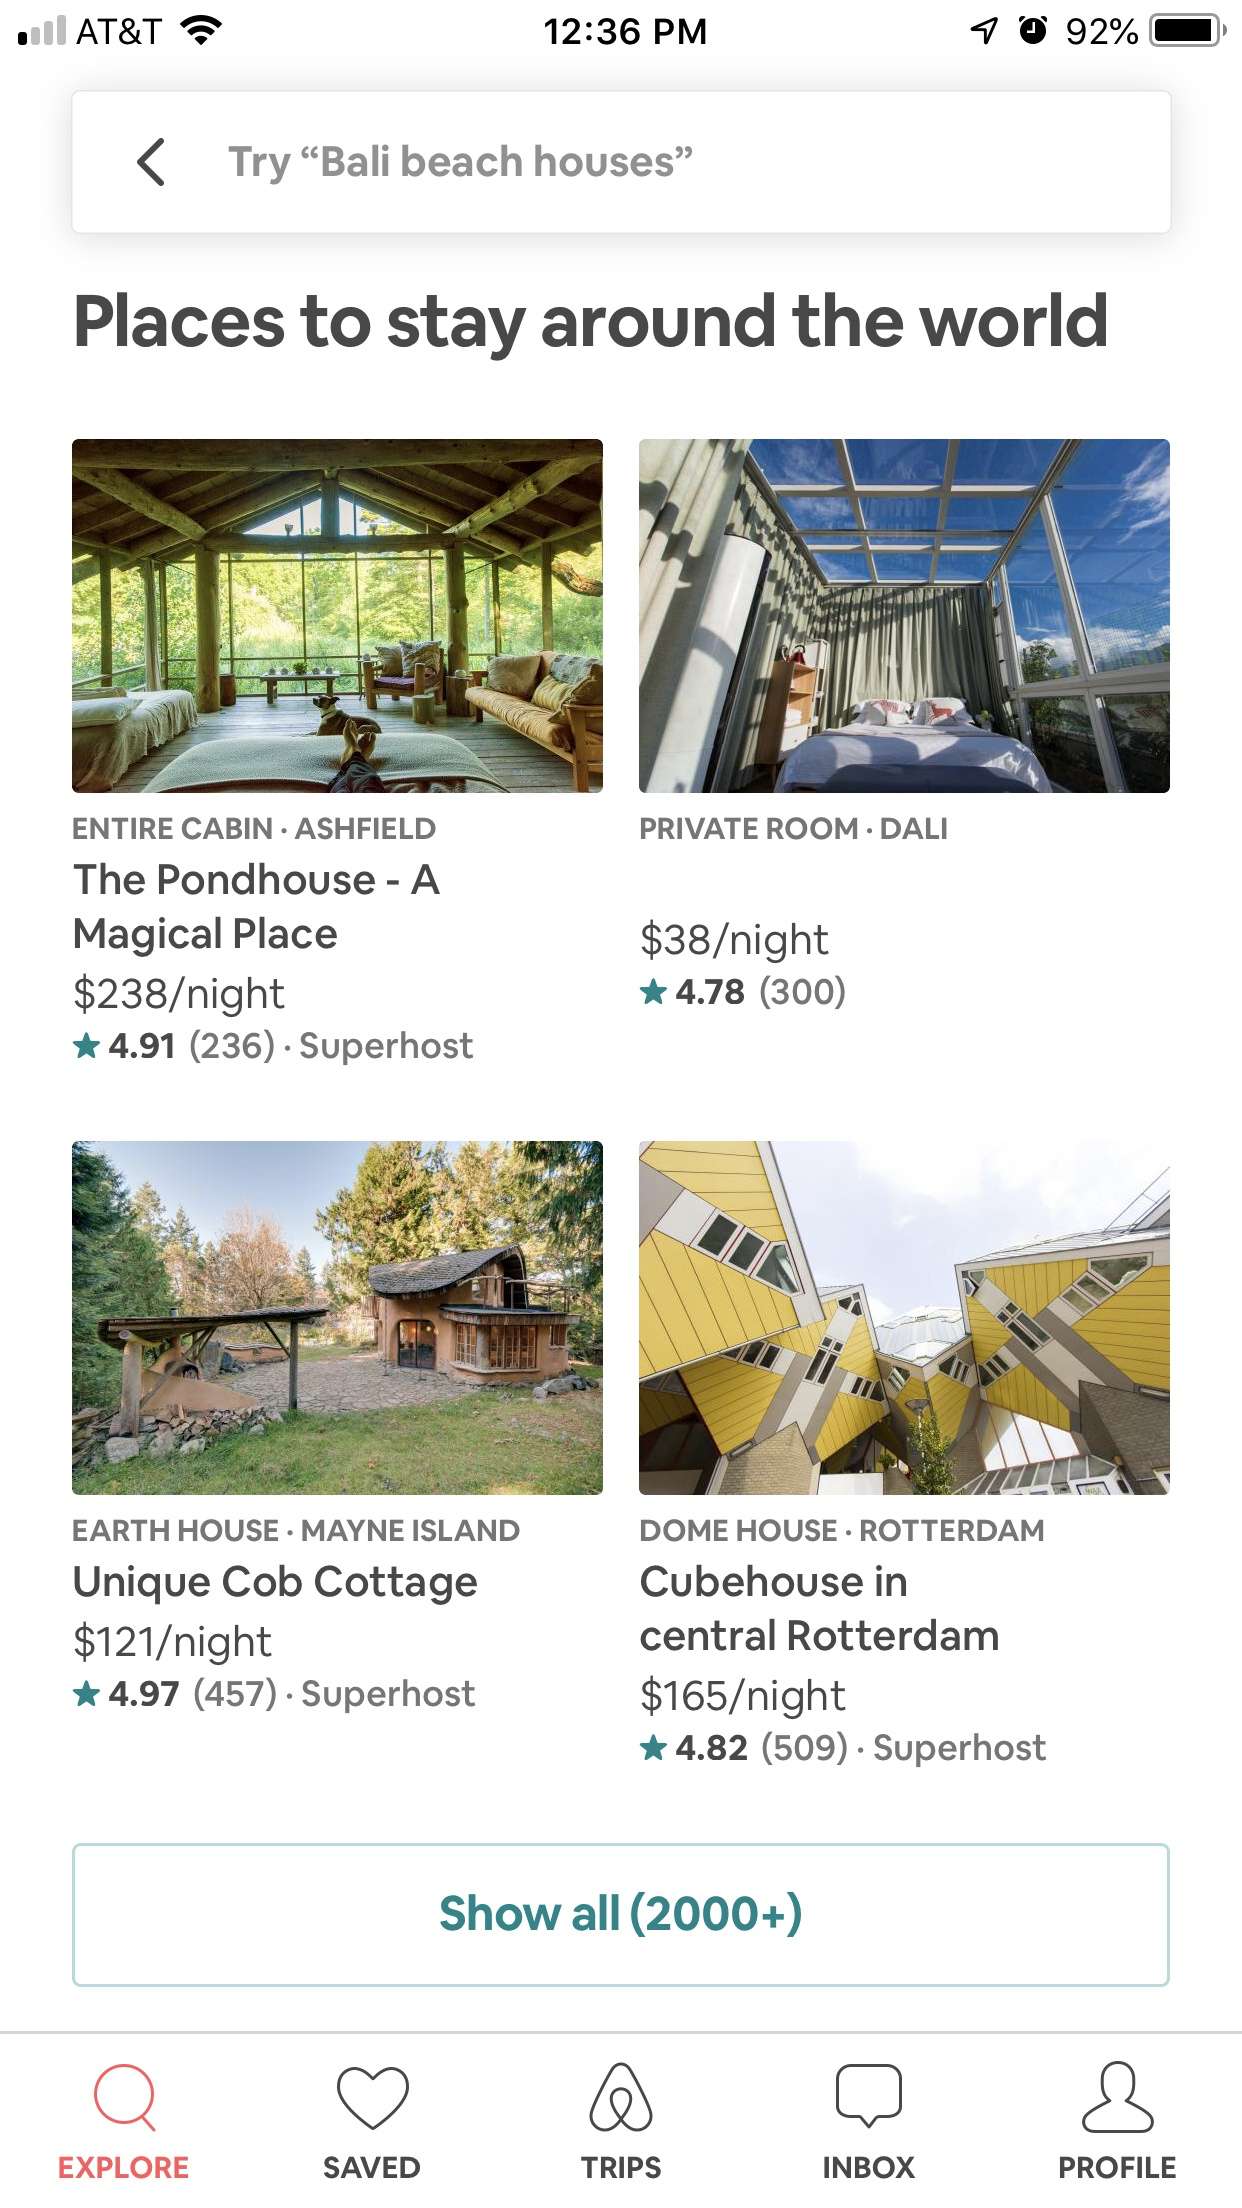EditText: (71, 89, 1172, 235)
Icon: (1081, 2059, 1156, 2134), (337, 2065, 411, 2131), (836, 2062, 902, 2131), (96, 2064, 158, 2134), (136, 138, 165, 188), (73, 1680, 102, 1708), (640, 978, 667, 1005), (640, 1733, 667, 1761), (73, 1033, 102, 1059)
Image: (71, 438, 604, 795), (638, 438, 1169, 795), (71, 1140, 604, 1495), (638, 1140, 1171, 1495), (588, 2062, 654, 2134)
Text: (76, 293, 1107, 362), (74, 861, 441, 958), (640, 1563, 999, 1651), (227, 146, 693, 187), (74, 1563, 478, 1606), (676, 1730, 1046, 1768), (109, 1676, 476, 1714), (109, 1030, 475, 1066), (73, 1520, 522, 1542), (74, 974, 287, 1019), (641, 1520, 1043, 1542), (641, 1676, 848, 1720), (74, 1621, 273, 1667), (641, 919, 830, 964), (73, 817, 437, 840), (641, 817, 948, 842), (676, 975, 846, 1011), (59, 2155, 190, 2179), (1060, 2155, 1177, 2179), (823, 2155, 916, 2181), (325, 2155, 422, 2179), (579, 2155, 663, 2179)
TextButton: (73, 1843, 1171, 1988)
UpperTaskBar: (2, 2, 1242, 49)
